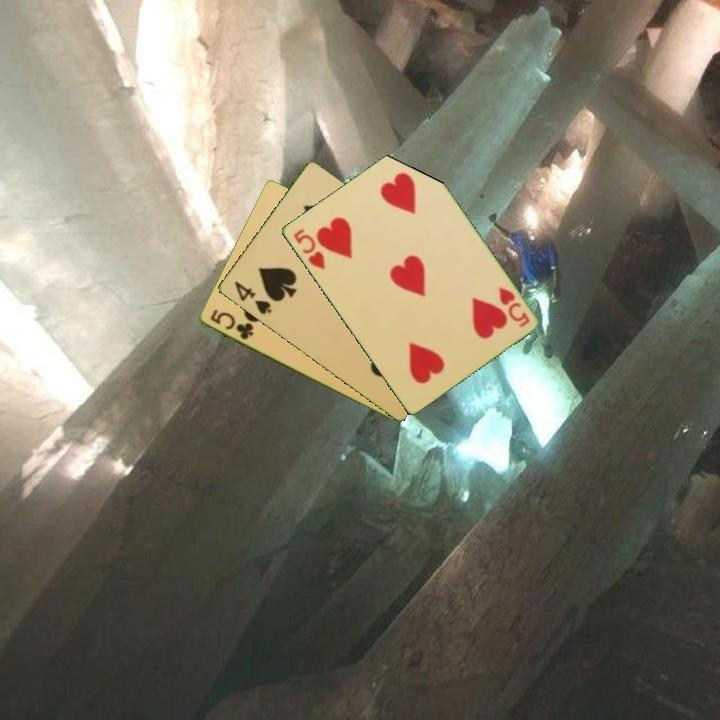4s: (230, 277, 274, 318)
5c: (206, 306, 256, 343)
5h: (289, 225, 328, 273), (495, 283, 532, 330)
